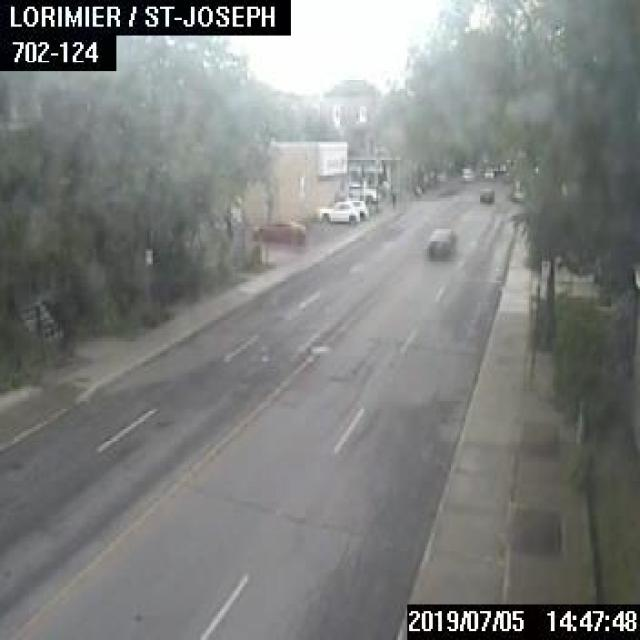vehicle: (252, 218, 304, 242), (317, 200, 358, 222), (426, 226, 454, 255), (348, 182, 377, 199), (344, 198, 366, 216), (478, 186, 493, 202), (460, 167, 473, 180), (513, 184, 523, 198), (483, 167, 492, 177)
